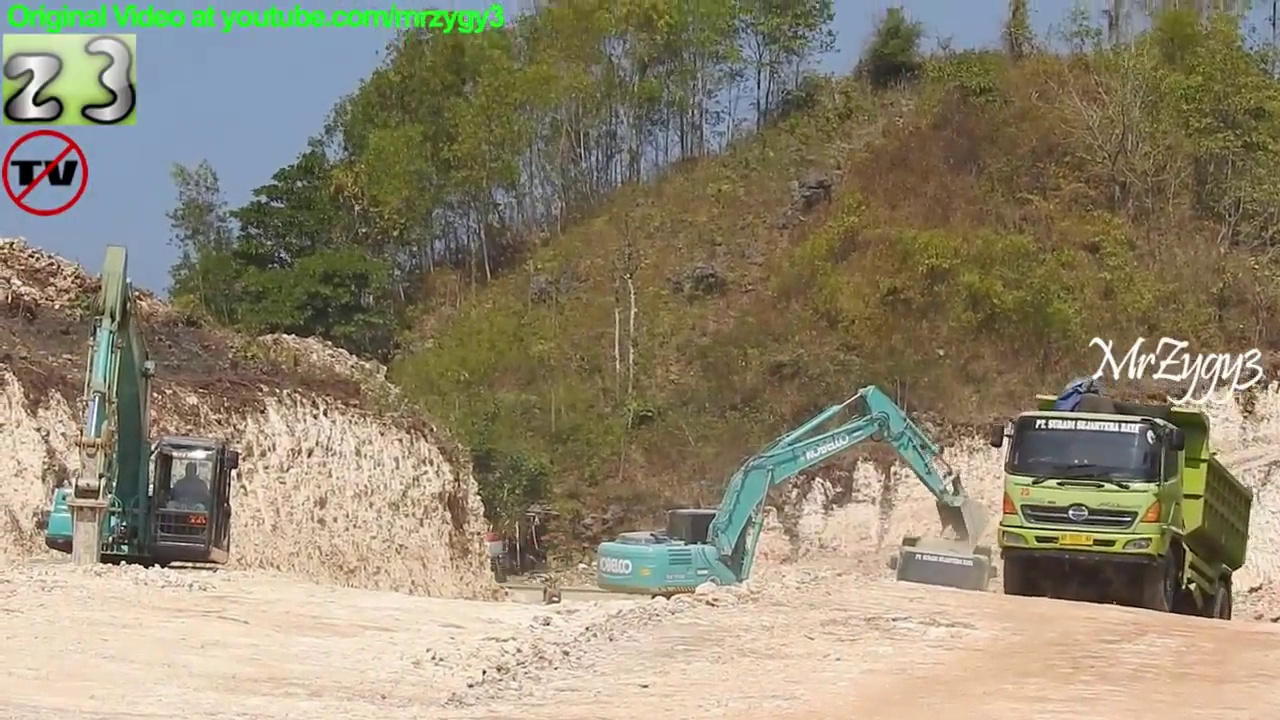excavator: (589, 378, 993, 637), (38, 240, 244, 610)
truck: (982, 389, 1260, 628), (882, 528, 1000, 643)
